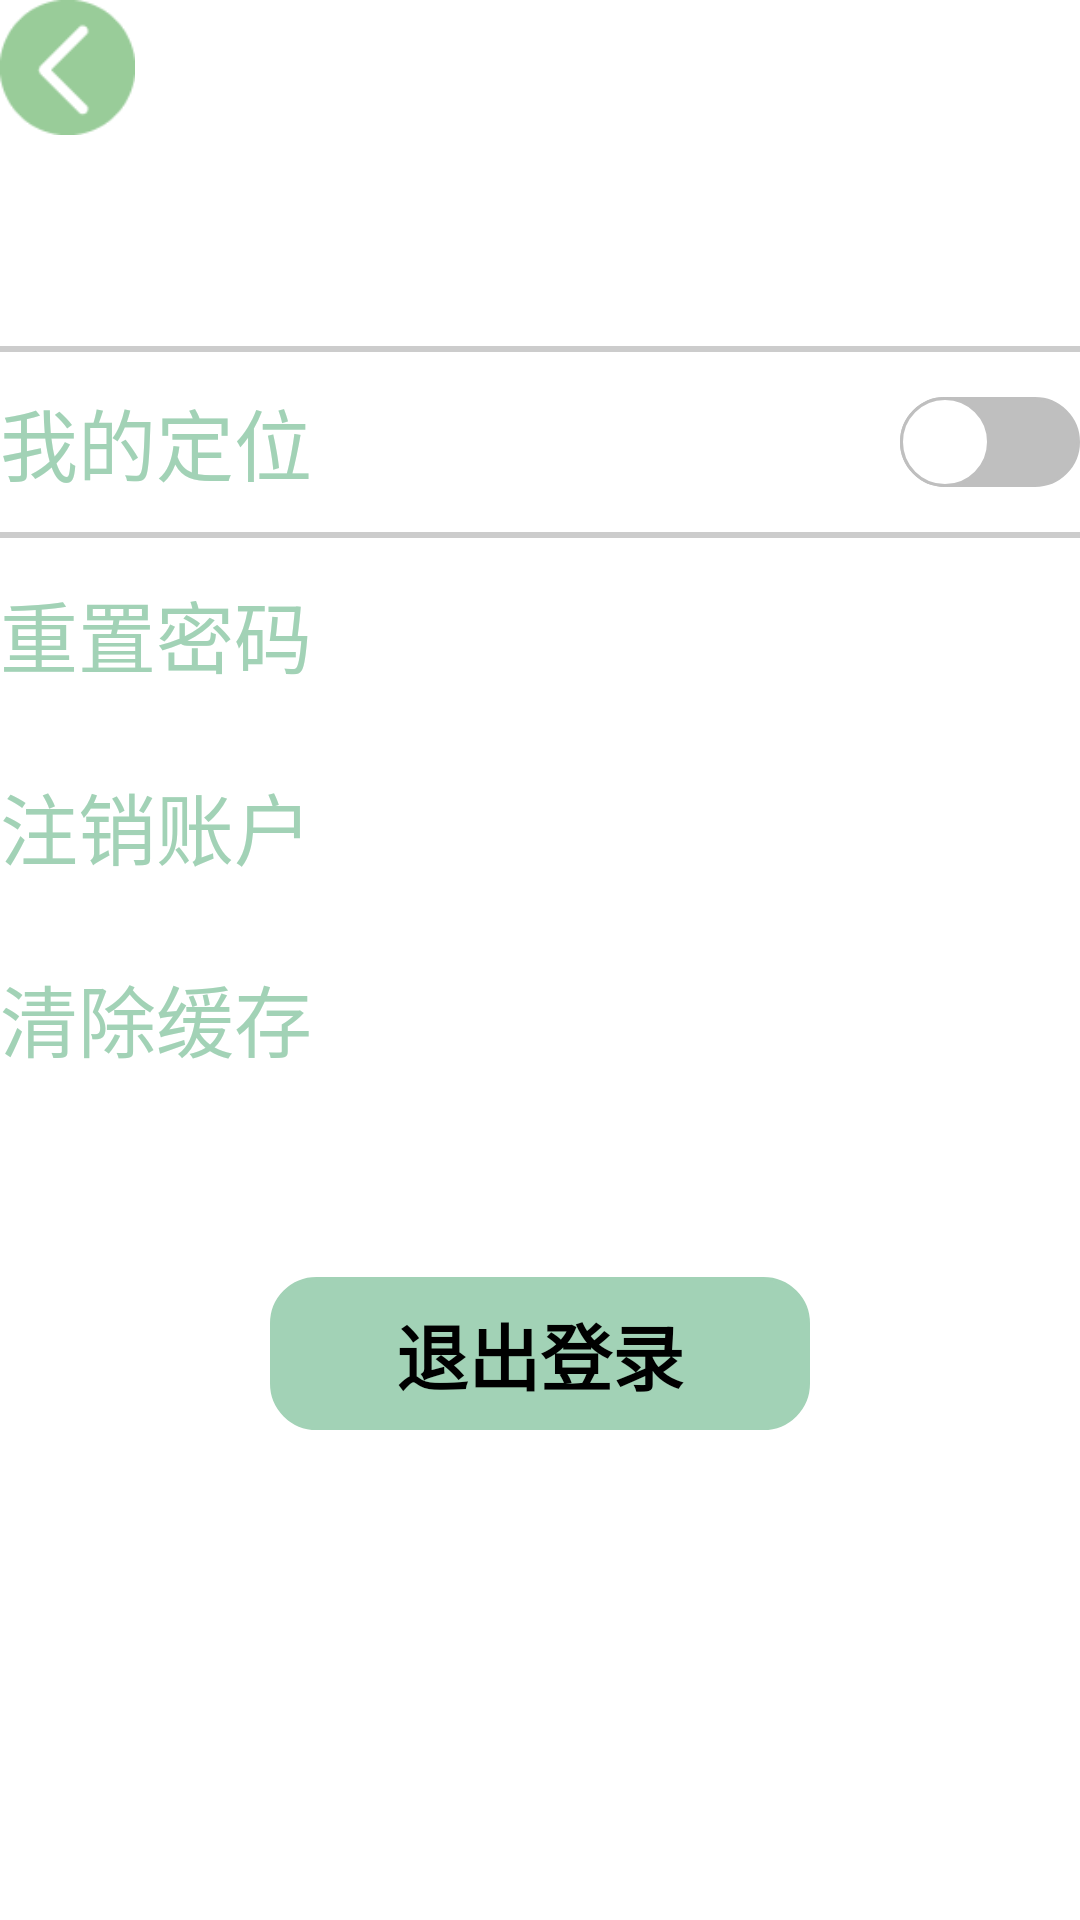

Icons on this 1080 × 1920 Android screen, each with the point to tap as point (x, y):
arrow back: point (67, 67)
